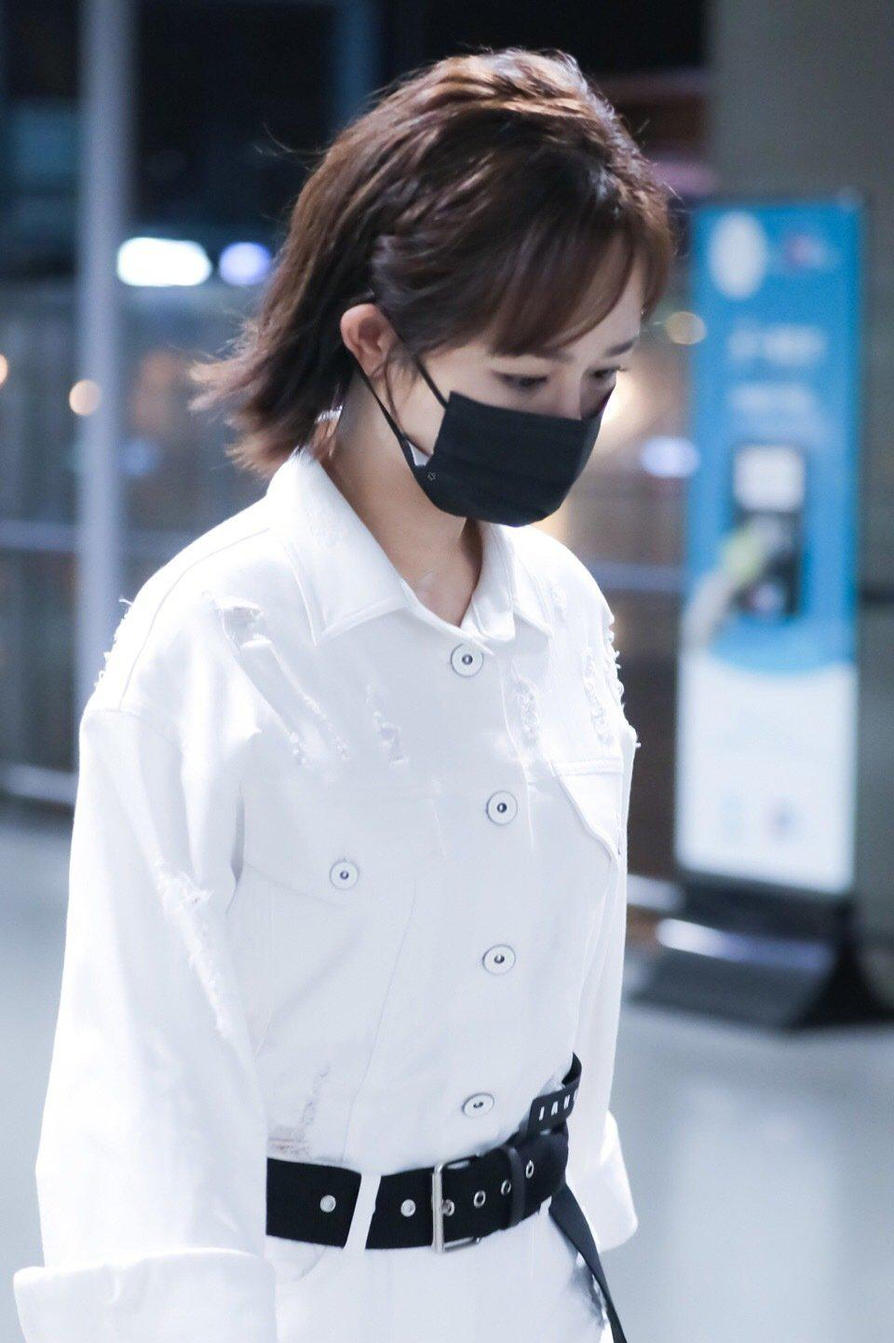OK: (409, 332, 642, 526)
